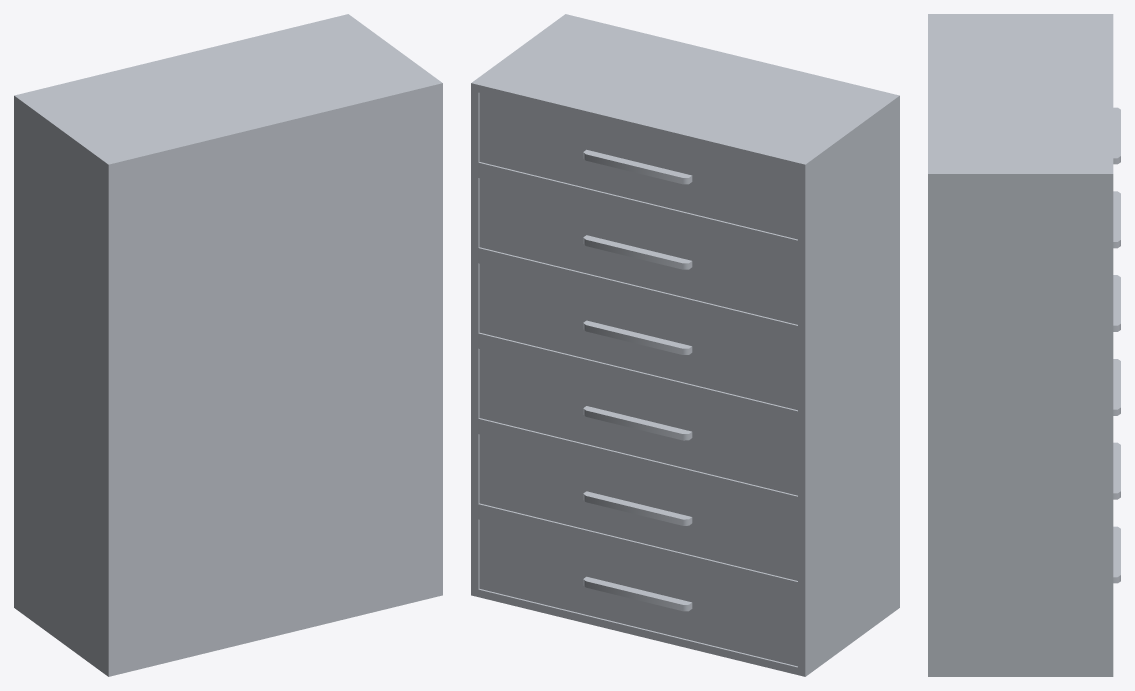
Rendered from bookshelf.glb.
3 renders of one model, left to right at view 1: azimuth 30°, elevation 25°; view 2: azimuth 150°, elevation 25°; view 3: azimuth 270°, elevation 25°, orthographic.
Visible parts, largest first — view 1: container_shelf.001; view 2: container_shelf.001, container.007, container.009, container.011, container.010, container.006, container.008; view 3: container_shelf.001, container.006, container.007, container.008, container.011, container.009, container.010.
Boxes of the visible parts, <box> form: container_shelf.001: <box>14,14,442,676</box>; container_shelf.001: <box>471,14,899,676</box>; container.007: <box>479,93,797,239</box>; container.009: <box>479,263,797,410</box>; container.011: <box>479,434,797,580</box>; container.010: <box>479,349,797,495</box>; container.006: <box>479,520,797,666</box>; container.008: <box>479,178,797,324</box>; container_shelf.001: <box>928,14,1113,676</box>; container.006: <box>1113,526,1120,583</box>; container.007: <box>1113,107,1120,164</box>; container.008: <box>1113,191,1120,248</box>; container.011: <box>1113,442,1120,499</box>; container.009: <box>1113,275,1120,331</box>; container.010: <box>1113,359,1120,415</box>.
Bounding box in the file's own units: 51.65 × 75.62 × 26.28.
Materials: 2 (2 with a texture image).
